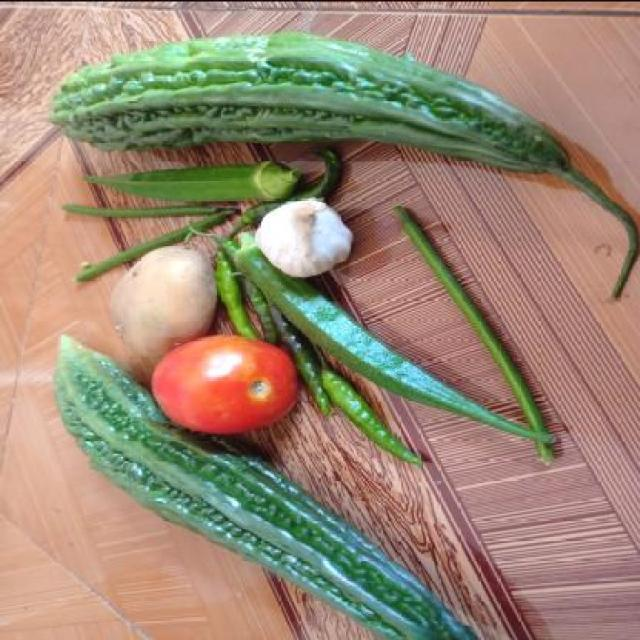Bitter melon: (54, 31, 574, 151)
Garlic: (258, 197, 354, 276)
Green Chili: (100, 447, 487, 640), (322, 369, 432, 471)
Lady finger: (78, 158, 300, 200)
Potato: (109, 240, 225, 354)
Tomato: (148, 337, 302, 437)
